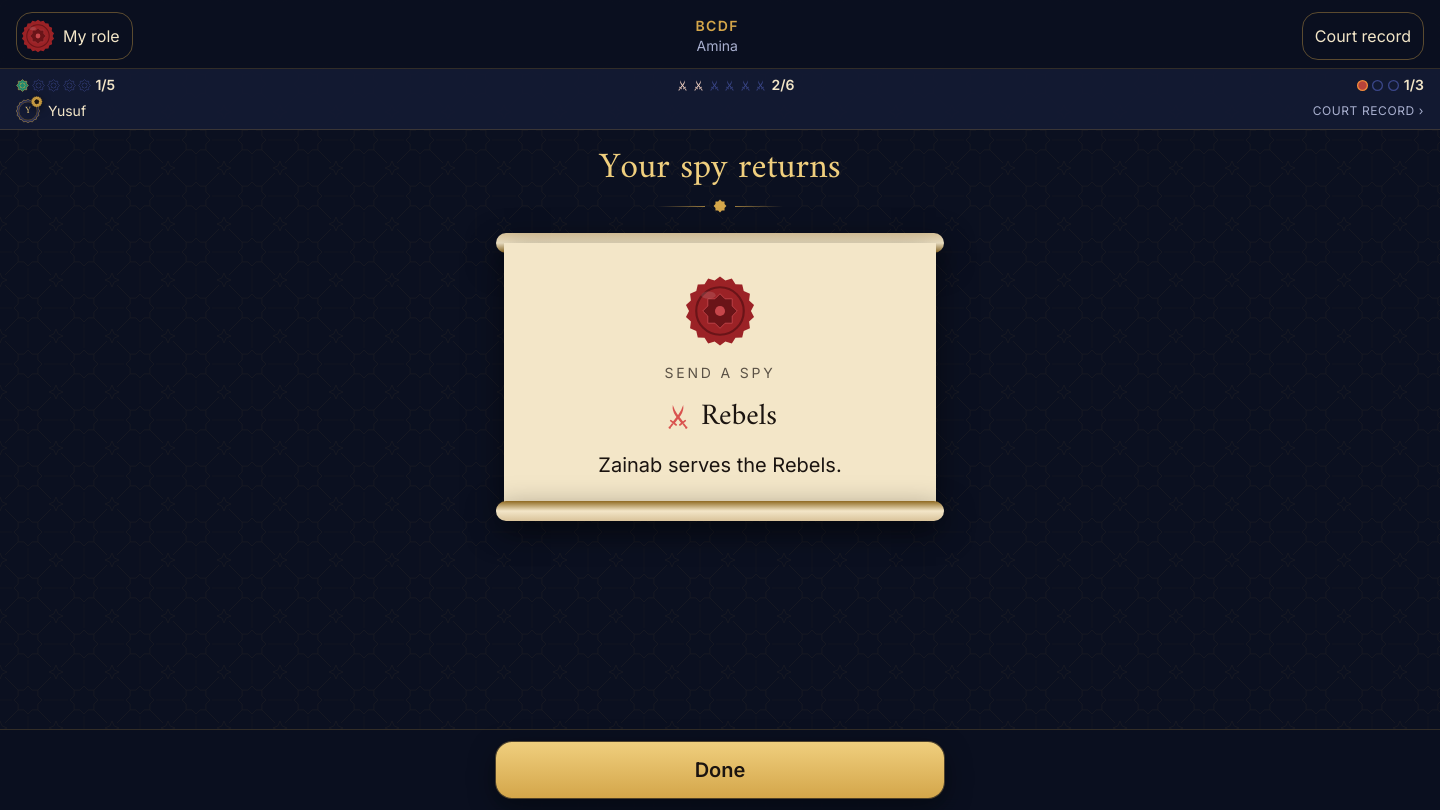
Scenario: private results › shows a new spy result until Done, then remembers it was seen
This screenshot has width=1440, height=810.
Click the button "Done" at [720, 770], box [496, 742, 944, 798]
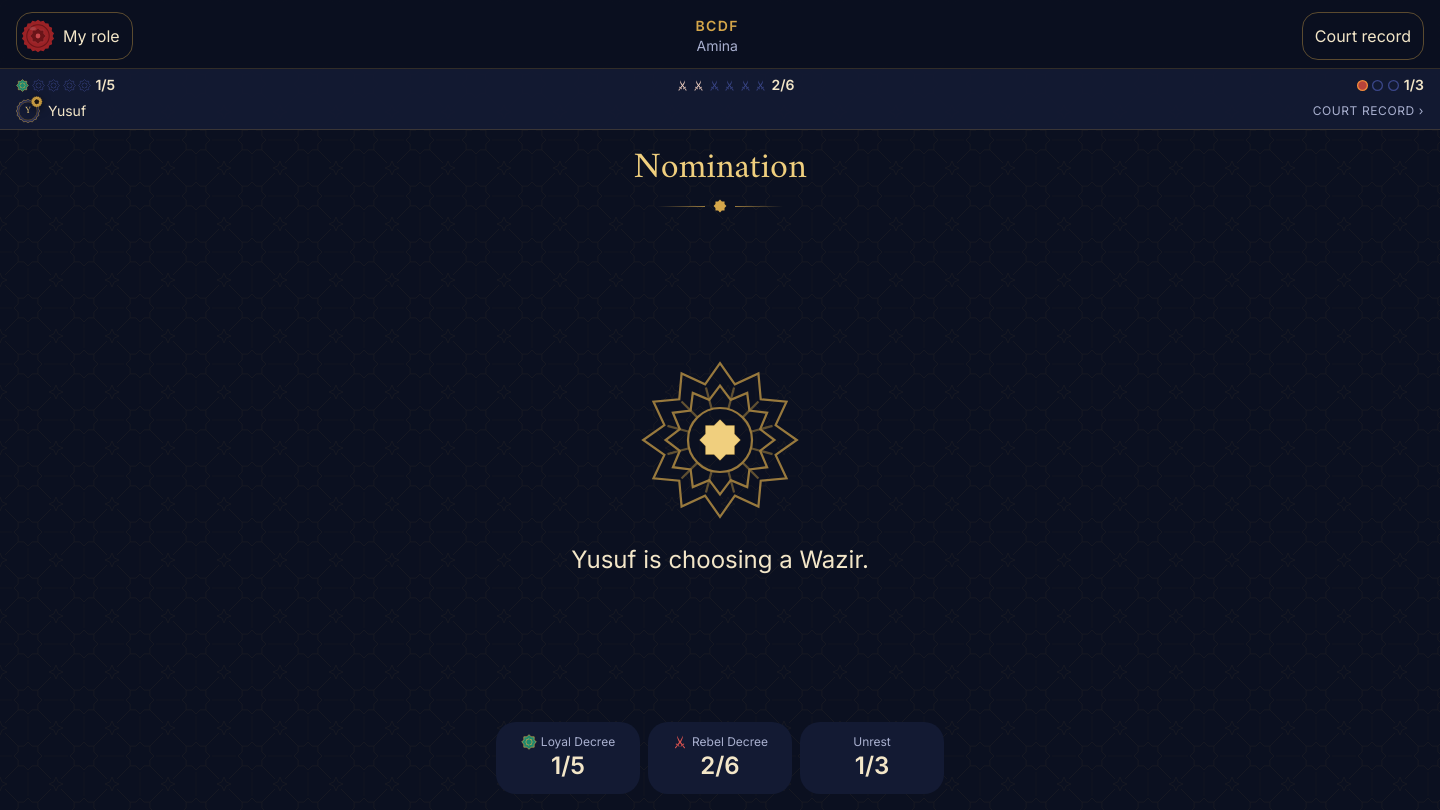
Check: the heading "Nomination" is shown, box [633, 146, 806, 191]
